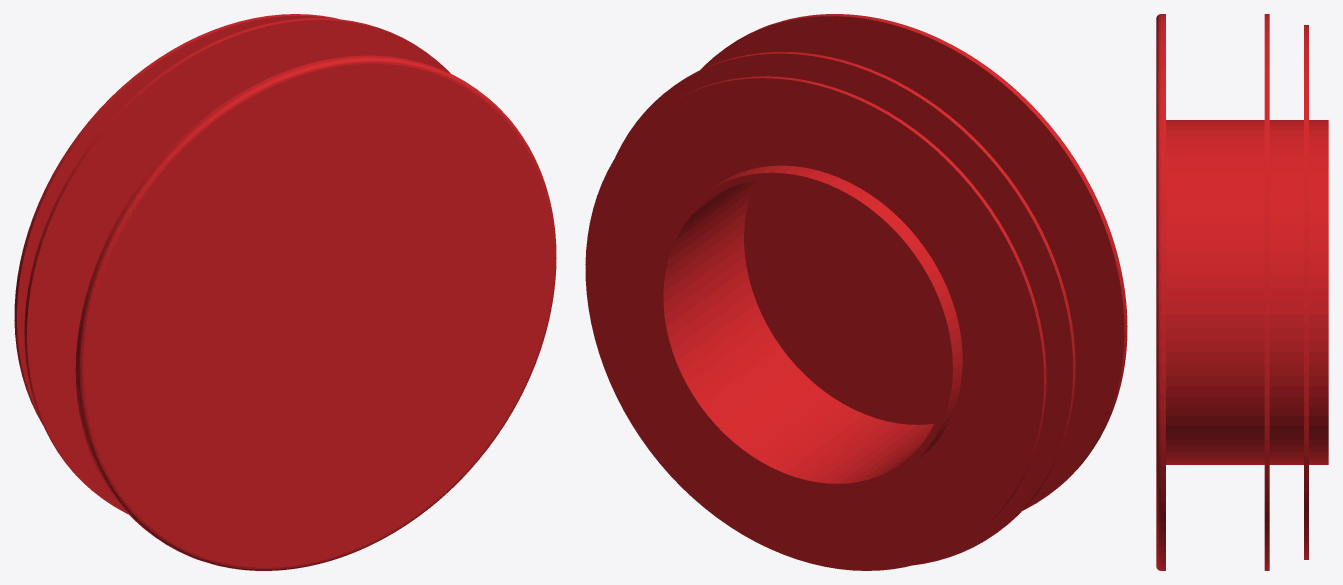
3 renders of one model, left to right at view 1: azimuth 30°, elevation 25°; view 2: azimuth 150°, elevation 25°; view 3: azimuth 270°, elevation 25°, orthographic.
Visible parts, largest first — view 1: 10272923; view 2: 10272923; view 3: 10272923.
Boxes of the visible parts, <box> form: 10272923: <box>14,14,556,570</box>; 10272923: <box>585,14,1127,570</box>; 10272923: <box>1156,14,1328,570</box>.
Size of the model in its own units: 1 by 0.9996 by 0.3097.
